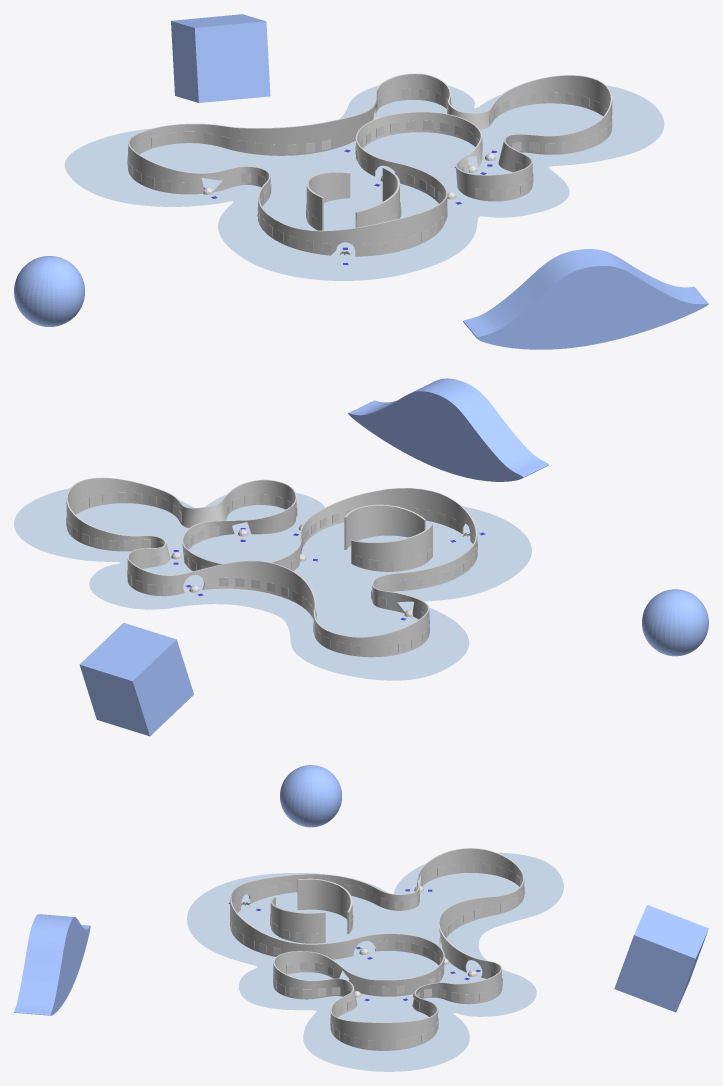
3 renders of one model, top to bottom at view 1: azimuth 30°, elevation 25°; view 2: azimuth 150°, elevation 25°; view 3: azimuth 270°, elevation 25°, orthographic. The views are drawn at different scales.
Parts seen in each view (by area): view 1: floor, qiang, Floating_2, Floating_1, Floating_3, post_B; view 2: floor, qiang, Floating_2, Floating_1, Floating_3, post_A; view 3: floor, qiang, Floating_1, Floating_2, Floating_3, post_B.
Boxes of the visible parts, x1,y1,x2,y2 form: floor: [64, 85, 664, 280]; qiang: [128, 73, 612, 256]; Floating_2: [463, 249, 708, 349]; Floating_1: [171, 14, 270, 102]; Floating_3: [14, 256, 84, 326]; post_B: [309, 172, 350, 202]; floor: [14, 488, 531, 680]; qiang: [66, 477, 477, 657]; Floating_2: [348, 378, 548, 481]; Floating_1: [79, 622, 193, 736]; Floating_3: [642, 589, 708, 656]; post_A: [346, 505, 424, 549]; floor: [187, 852, 563, 1071]; qiang: [230, 848, 524, 1050]; Floating_1: [614, 905, 708, 1012]; Floating_2: [14, 914, 90, 1015]; Floating_3: [280, 765, 341, 827]; post_B: [298, 879, 350, 919].
Bounding box in the file's own units: 165 × 22.37 × 168.
